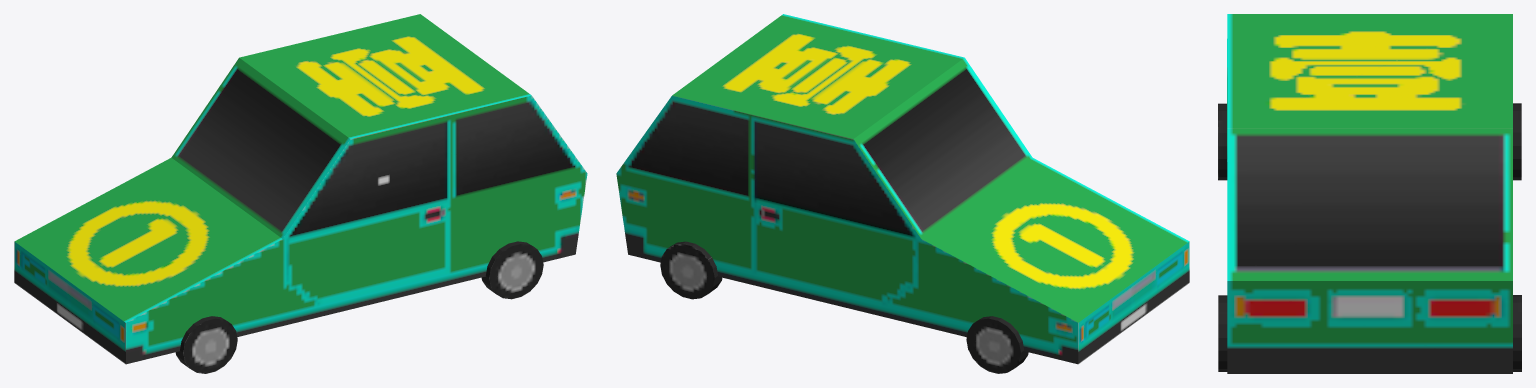
File: car1.obj
The picture shows the model from 3 angles, left to right: view 1: azimuth 30°, elevation 25°; view 2: azimuth 150°, elevation 25°; view 3: azimuth 270°, elevation 25°; orthographic projection. The views are drawn at different scales.
Visible parts, largest first — view 1: Object.1, Object.2, Object.4; view 2: Object.1, Object.3, Object.5; view 3: Object.1, Object.4, Object.2, Object.3, Object.5.
Boxes of the visible parts, bbox=[...] form: Object.1: bbox=[14, 14, 587, 364]; Object.2: bbox=[175, 316, 237, 373]; Object.4: bbox=[481, 241, 543, 299]; Object.1: bbox=[616, 14, 1189, 364]; Object.3: bbox=[966, 316, 1028, 373]; Object.5: bbox=[660, 241, 722, 299]; Object.1: bbox=[1227, 14, 1512, 373]; Object.4: bbox=[1218, 295, 1227, 371]; Object.2: bbox=[1218, 103, 1227, 180]; Object.3: bbox=[1513, 103, 1521, 180]; Object.5: bbox=[1513, 295, 1521, 371].
Bounding box in the file's own units: 78.52 × 31.87 × 34.84.
